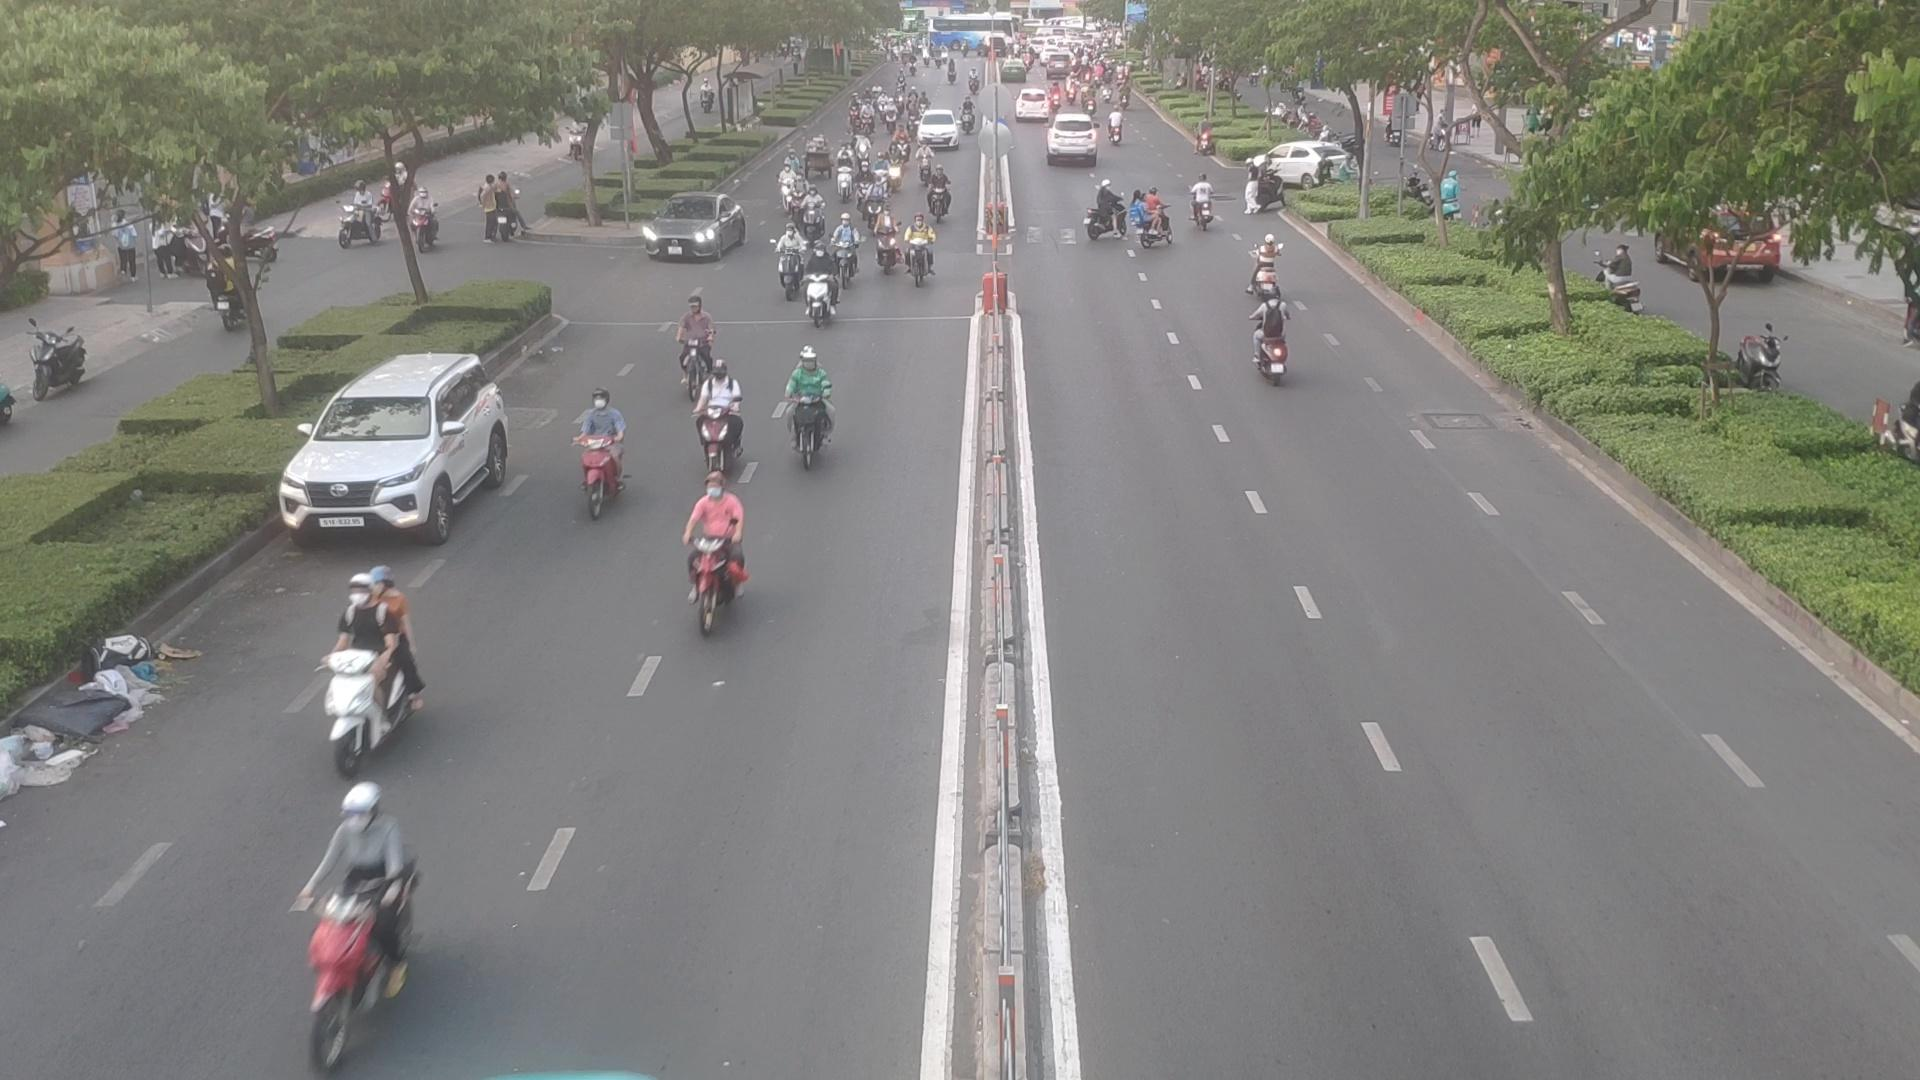car: (276, 348, 517, 541), (636, 193, 749, 262), (1254, 141, 1356, 189), (1044, 117, 1095, 167)
motorbike: (281, 783, 425, 1071), (331, 574, 421, 748), (562, 388, 636, 527), (676, 472, 738, 637), (673, 284, 719, 407), (698, 360, 742, 487), (790, 338, 824, 458), (1258, 301, 1291, 389), (1131, 189, 1172, 251), (774, 229, 802, 305), (1087, 181, 1122, 237), (872, 212, 899, 284), (806, 248, 829, 327), (1189, 179, 1218, 237), (1253, 240, 1280, 301), (909, 215, 934, 278), (860, 177, 884, 233), (806, 179, 827, 237), (836, 218, 855, 284), (789, 167, 808, 224), (928, 167, 949, 218), (775, 161, 796, 208), (851, 161, 872, 208), (849, 131, 872, 166), (837, 152, 851, 208), (916, 141, 932, 182), (895, 127, 913, 160), (889, 142, 902, 179)
